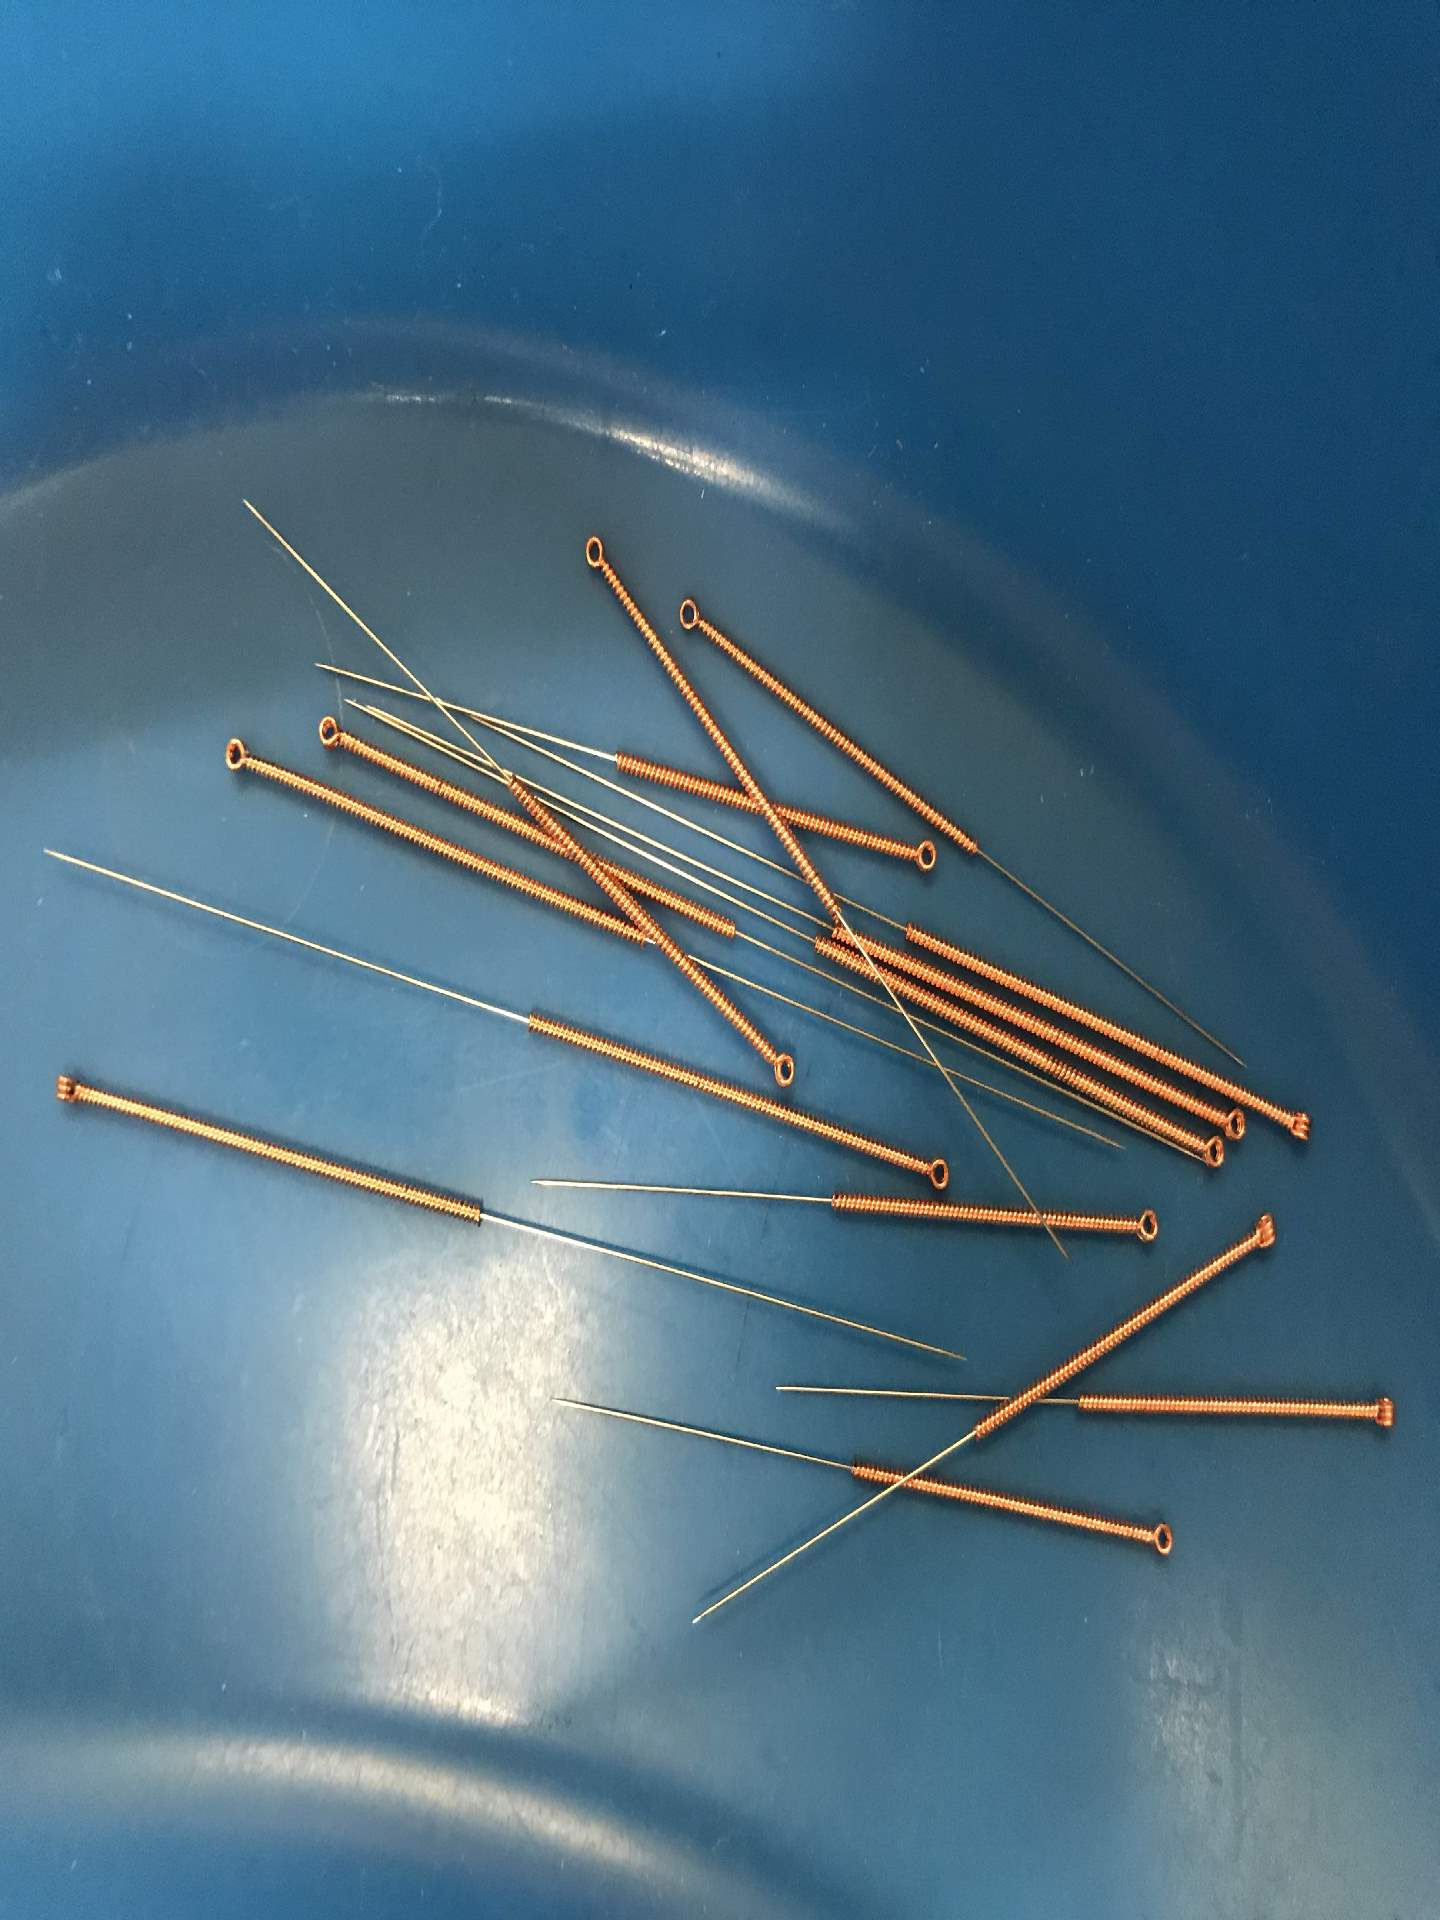needle: (1346, 1376, 1411, 1448), (1128, 1507, 1190, 1572), (1268, 1090, 1324, 1157), (1113, 1194, 1172, 1256), (1234, 1197, 1286, 1268), (573, 522, 623, 593), (206, 729, 268, 785), (39, 1061, 97, 1119), (756, 1037, 811, 1096), (299, 706, 355, 759), (911, 1144, 962, 1199), (892, 835, 947, 886), (669, 587, 717, 644), (1181, 1129, 1230, 1178), (1210, 1099, 1252, 1141)
